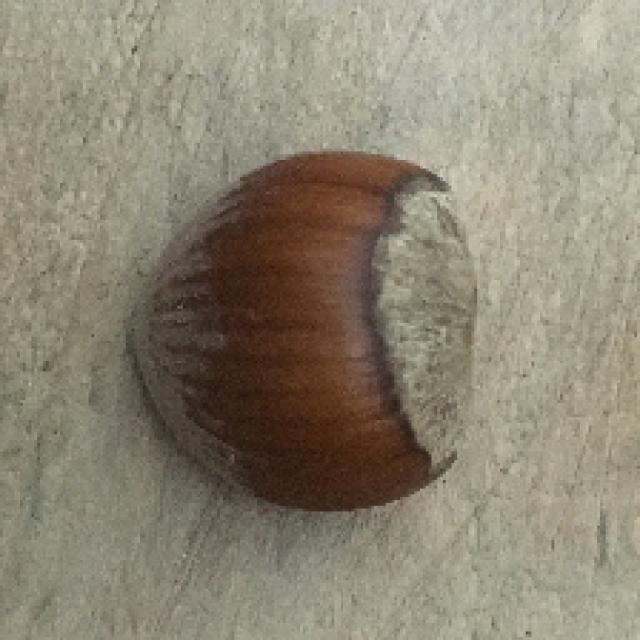qualityHazelnut: (124, 142, 489, 516)
